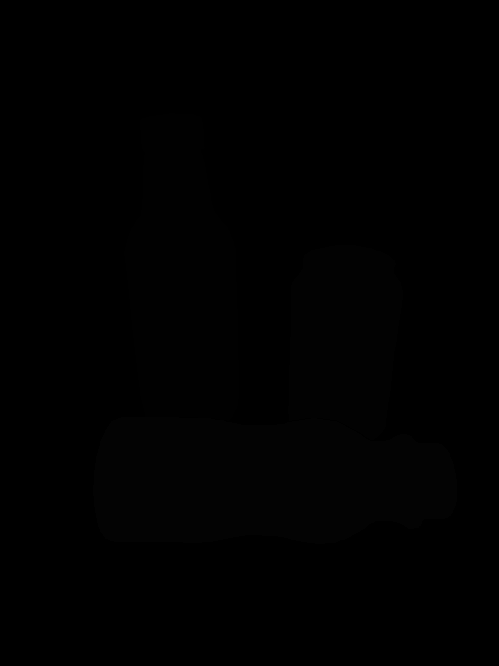can: (285, 243, 405, 444)
milk_bottle: (89, 415, 460, 547)
water_bottle: (121, 110, 243, 438)
